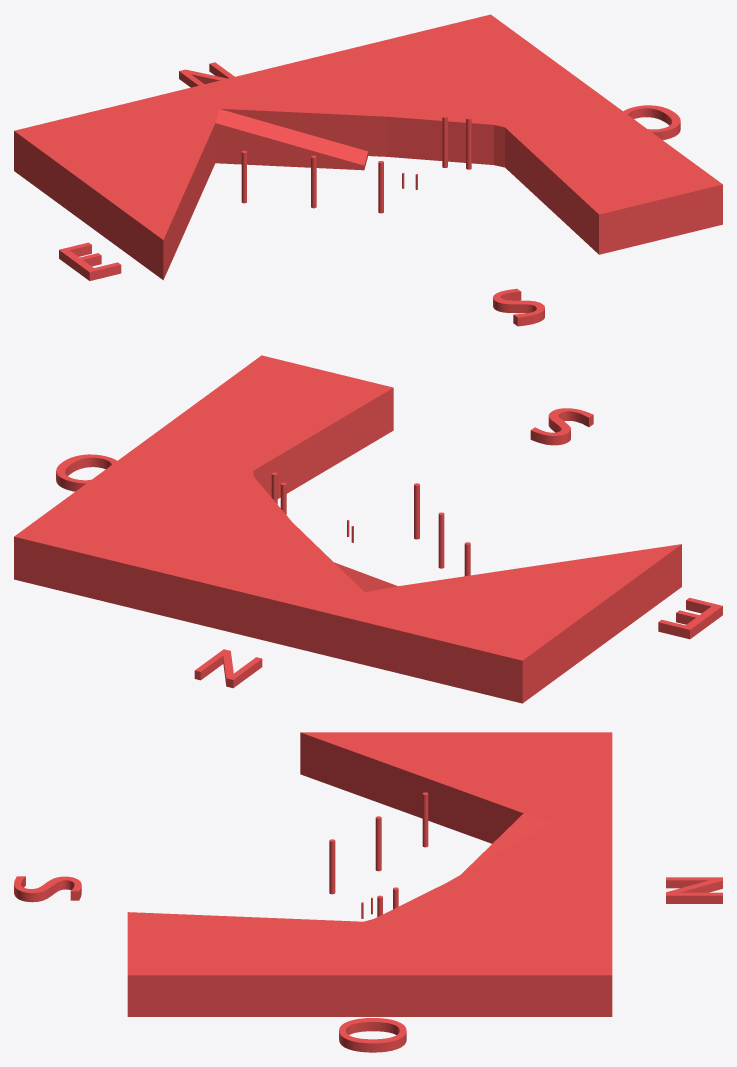
File: taliarte_rviz.dae
3 views of the same model, one above another, from view 1: azimuth 30°, elevation 25°; view 2: azimuth 150°, elevation 25°; view 3: azimuth 270°, elevation 25° (orthographic). The views are drawn at different scales.
Visible parts, largest first — view 1: SketchUp, E, S, N_1, O; view 2: SketchUp, E, S, N_1, O; view 3: SketchUp, O (×2), N_1, S.
Part boxes in pixels (x1,y1,x2,y2): SketchUp: [14, 14, 722, 280]; E: [59, 242, 121, 280]; S: [493, 288, 544, 326]; N_1: [179, 62, 234, 87]; O: [623, 105, 680, 140]; SketchUp: [14, 355, 681, 703]; E: [658, 597, 722, 639]; S: [530, 408, 593, 445]; N_1: [194, 649, 262, 688]; O: [56, 454, 116, 491]; SketchUp: [127, 732, 612, 1016]; O (×2): [339, 1018, 406, 1052]; N_1: [666, 877, 722, 903]; S: [14, 876, 81, 902].
Size of the model in its own units: 4937 by 4822 by 394.
